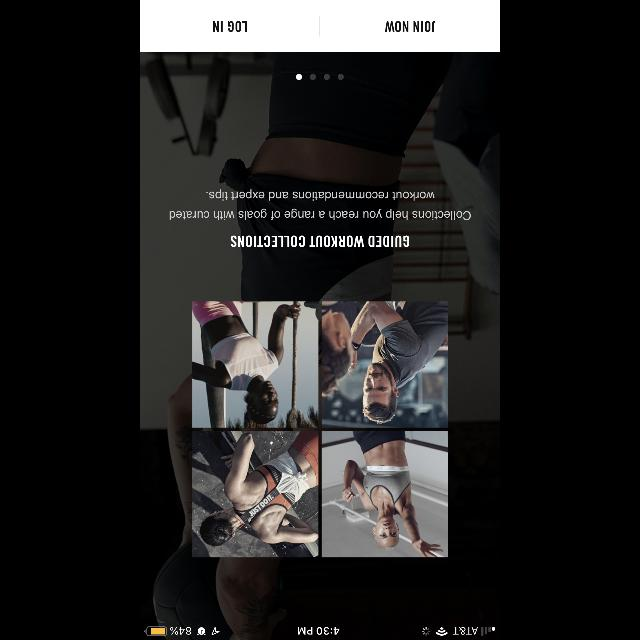image: (192, 301, 448, 557)
pageindicator: (296, 74, 344, 80)
text: (170, 190, 470, 220), (231, 235, 409, 247), (385, 22, 435, 32), (213, 22, 247, 32)
uppertaskbar: (140, 626, 500, 640)
